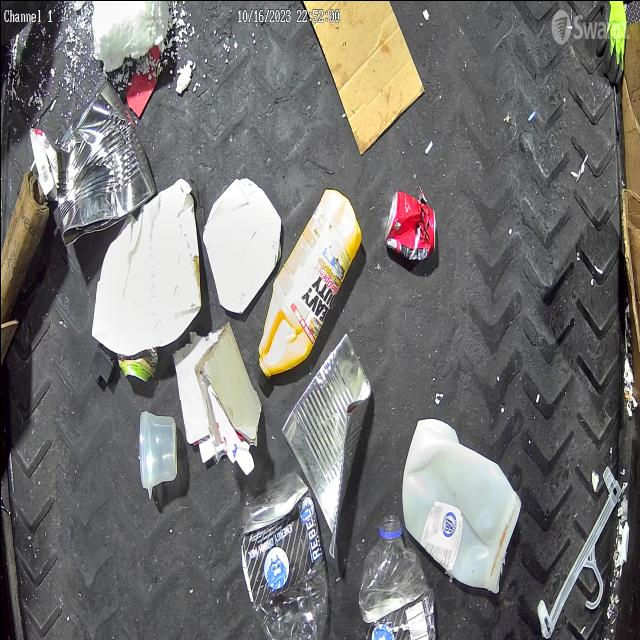can: (46, 81, 152, 250), (384, 188, 436, 260), (120, 350, 157, 380)
milk_jug: (400, 418, 520, 594)
non_white_jug: (252, 184, 358, 386)
plastic_bottle: (240, 468, 328, 640), (358, 514, 436, 640)
